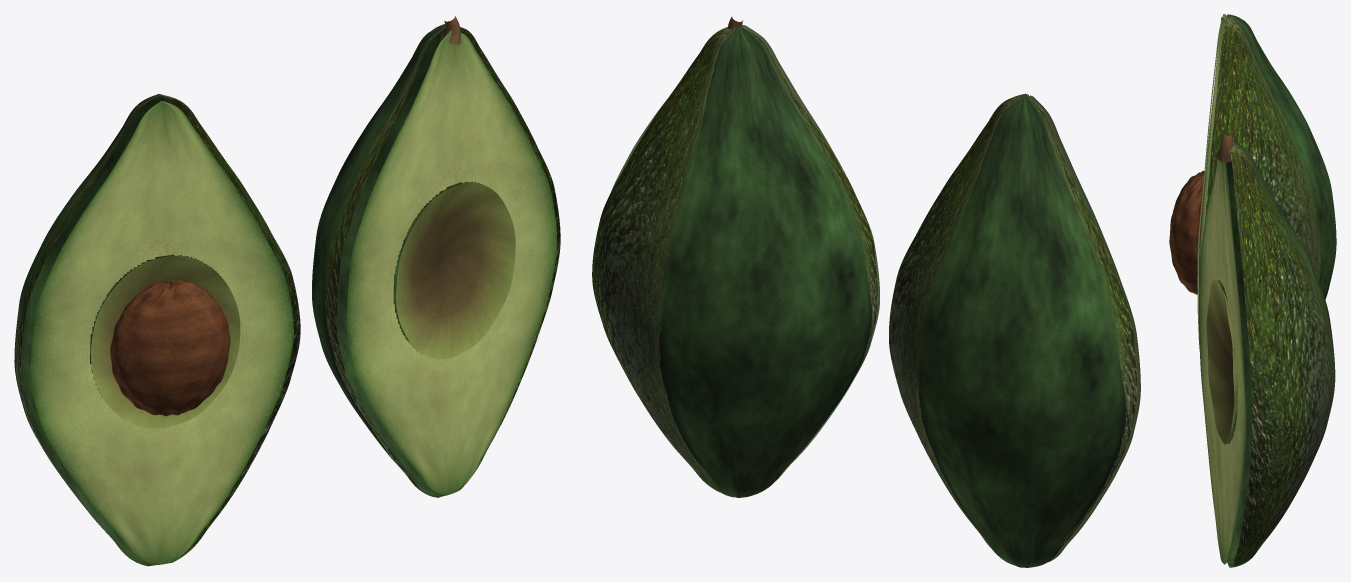
File: aguacate-partido.glb
3 views of the same model, side by side, from view 1: azimuth 30°, elevation 25°; view 2: azimuth 150°, elevation 25°; view 3: azimuth 270°, elevation 25° (orthographic). The views are drawn at different scales.
Parts seen in each view (by area): view 1: Left half with pit - Fresh flesh, Right half with seed cavity - Fresh flesh, Right half with seed cavity - Seed socket, Right half with seed cavity - Outer skin, Left half - brown seed, Left half with pit - Outer skin, Left half with pit - Seed socket; view 2: Right half with seed cavity - Outer skin, Left half with pit - Outer skin, Left half with pit - Cut rind lip, Right half with seed cavity - Cut rind lip; view 3: Right half with seed cavity - Outer skin, Left half with pit - Outer skin, Right half with seed cavity - Fresh flesh, Right half with seed cavity - Seed socket, Left half - brown seed, Left half with pit - Fresh flesh, Left half with pit - Cut rind lip, Right half with seed cavity - stem remnant.
Boxes of the visible parts, box(x1,y1,x2,y2) form: Left half with pit - Fresh flesh: box(30, 101, 293, 565); Right half with seed cavity - Fresh flesh: box(346, 31, 557, 496); Right half with seed cavity - Seed socket: box(396, 182, 515, 359); Right half with seed cavity - Outer skin: box(312, 24, 560, 497); Left half - brown seed: box(110, 280, 230, 416); Left half with pit - Outer skin: box(14, 94, 300, 566); Left half with pit - Seed socket: box(91, 256, 240, 428); Right half with seed cavity - Outer skin: box(592, 26, 877, 497); Left half with pit - Outer skin: box(889, 95, 1136, 567); Left half with pit - Cut rind lip: box(1013, 93, 1140, 561); Right half with seed cavity - Cut rind lip: box(611, 25, 879, 480); Right half with seed cavity - Outer skin: box(1217, 141, 1335, 567); Left half with pit - Outer skin: box(1205, 14, 1336, 299); Right half with seed cavity - Fresh flesh: box(1199, 154, 1246, 564); Right half with seed cavity - Seed socket: box(1206, 279, 1237, 444); Left half - brown seed: box(1169, 170, 1205, 294); Left half with pit - Fresh flesh: box(1199, 17, 1225, 289); Left half with pit - Cut rind lip: box(1197, 14, 1226, 351); Right half with seed cavity - stem remnant: box(1217, 135, 1232, 162).
Bounding box in the file's own units: 3.08 × 2.6 × 0.9172.
6 materials, 4 textured.
